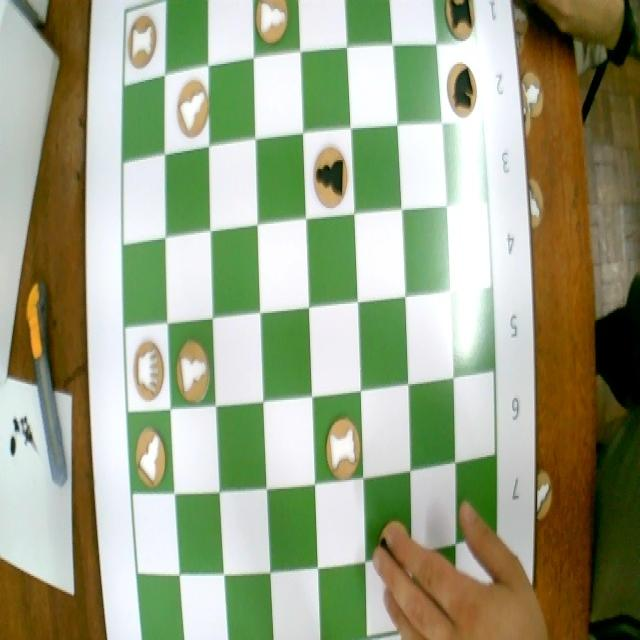chess-pieces: (128, 418, 172, 493), (306, 142, 351, 211), (170, 337, 212, 410), (440, 58, 483, 125), (172, 79, 215, 144), (128, 332, 166, 404), (325, 418, 362, 482), (127, 9, 160, 76), (249, 0, 292, 47), (441, 0, 479, 41)
